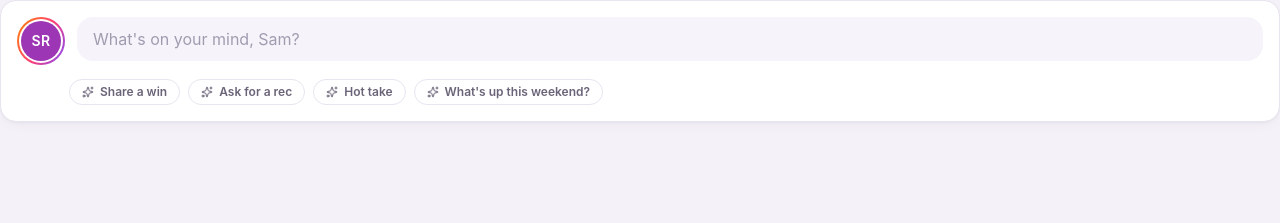
it: Composer › autocompletes @mentions from R's friends
Type "brunch with @sar" into the text box named "Write a post" at (670, 39), box [77,17,1263,61]
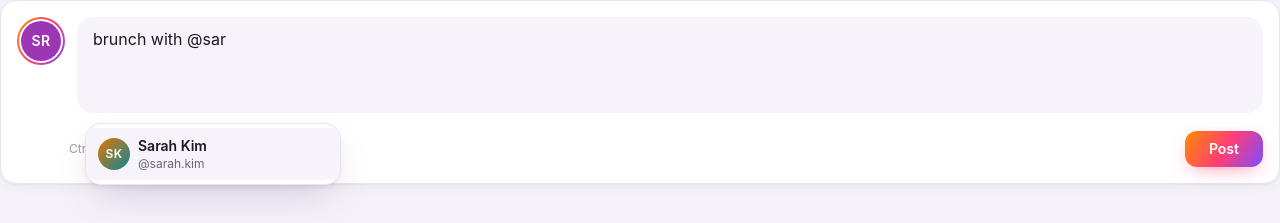
Expected: the list named "Mention a friend" is shown, [85,123,341,185]
Press Enter in the text box named "Write a post", box [77,17,1263,113]
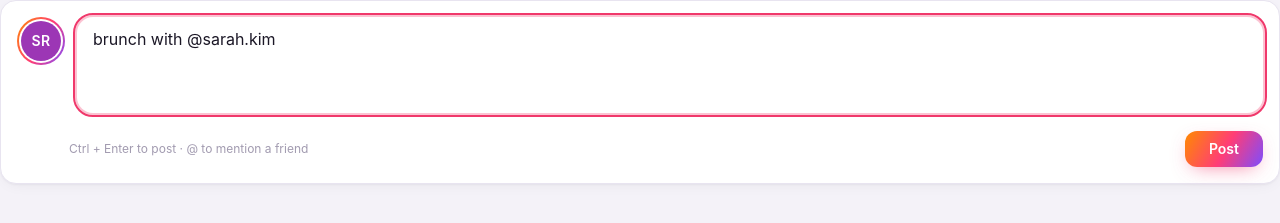
Expected: the text box named "Write a post" holds "brunch with @sarah.kim ", [77,17,1263,113]
Expected: the list is gone
